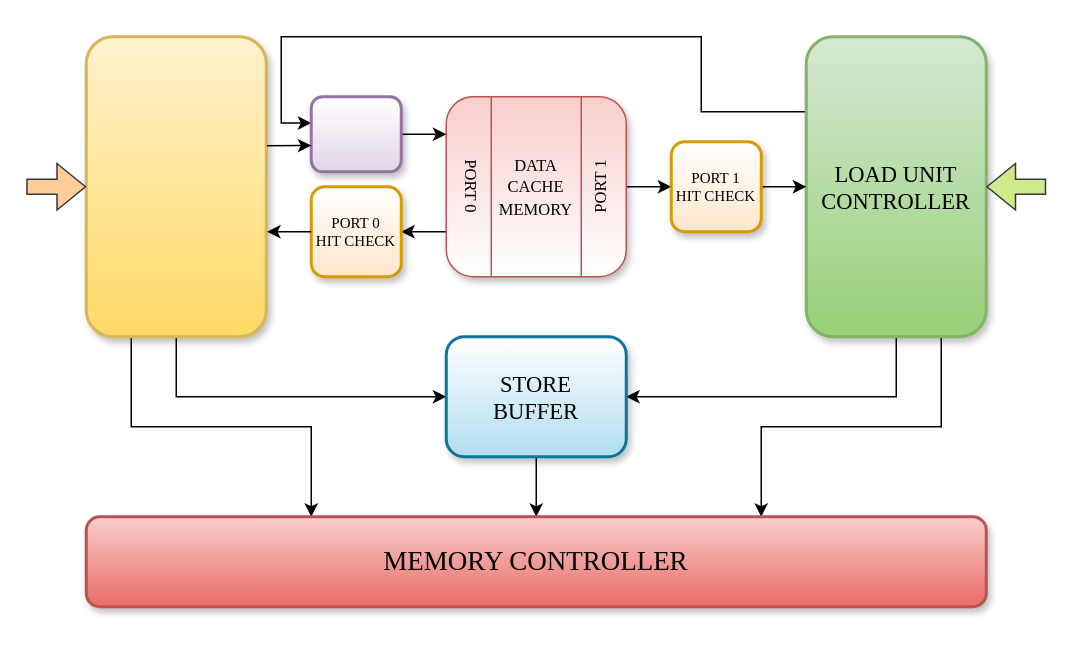
The diagram is 1071 pixels wide and 645 high, and some of its shapes have lost their labels. Here are the shapes that lost their labels. From the top down, the centre of each, then its label:
[357,135]: ARBITER
[177,188]: STORE UNIT CONTROLLER
